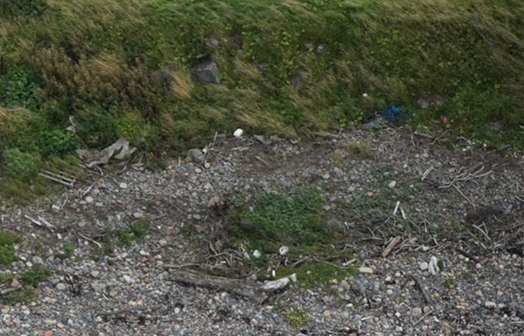cuboid: (36, 164, 79, 190)
white_in_green: (370, 89, 420, 136), (217, 112, 256, 149)
